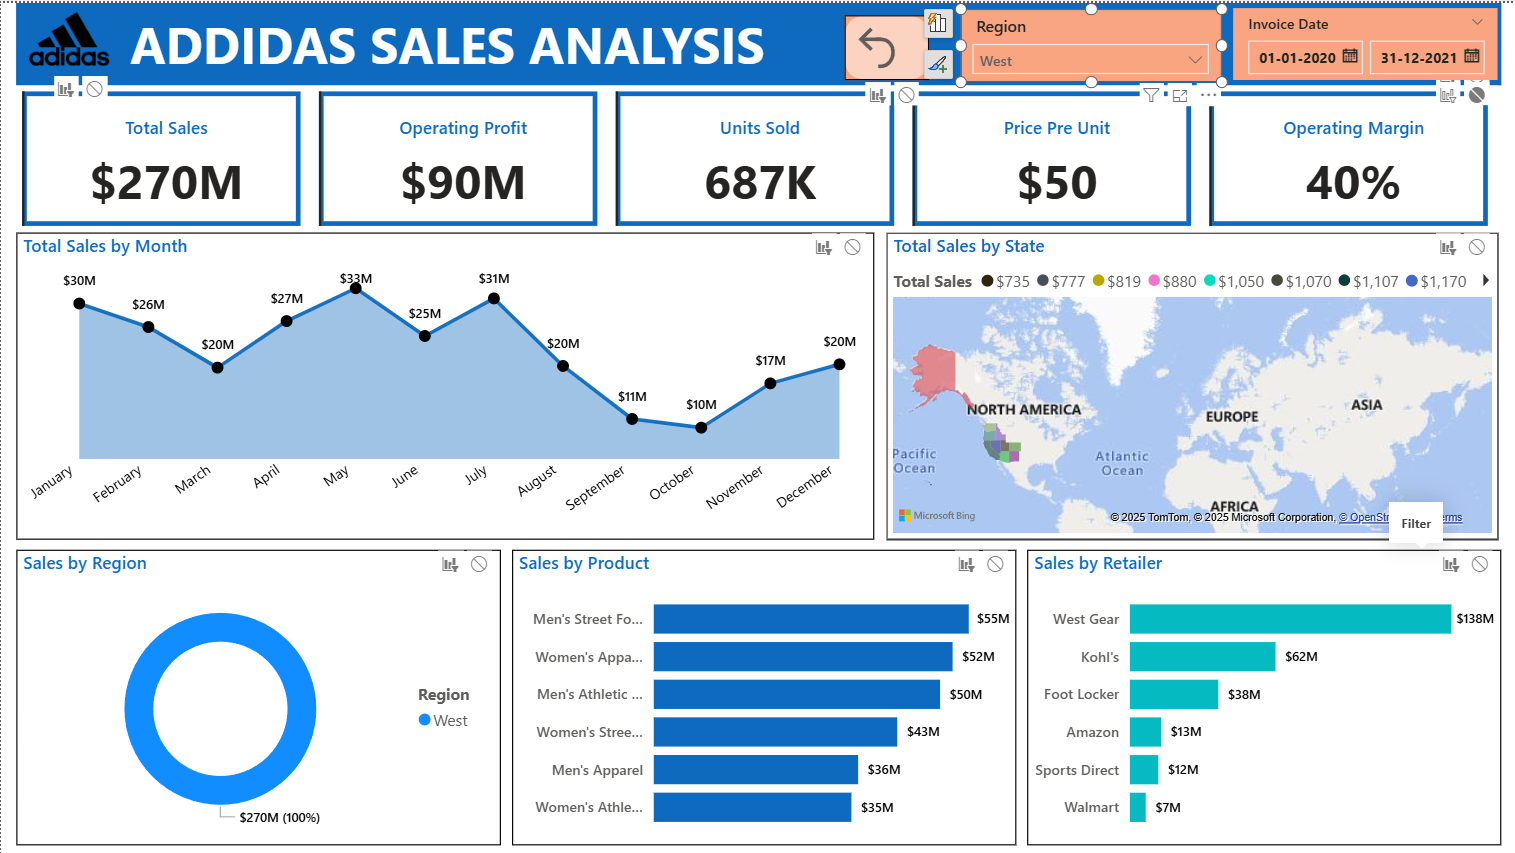

The page's visual inventory and layout, read from the dashboard file:
{"tool":"powerbi","page":{"name":"Page 1","canvas":[1280,720],"ordinal":0},"visuals":[{"type":"shape","box":[13,0,1255.6,69.5],"z":0},{"type":"textbox","box":[104.6,0.9,628.4,68.8],"z":1000},{"type":"cardVisual","fields":{"Data":["Sum(Data Sales Adidas.Total Sales)","Sum(Data Sales Adidas.Operating Profit)","Sum(Data Sales Adidas.Units Sold)","Avg(Data Sales Adidas.Price per Unit)","Avg(Data Sales Adidas.Operating Margin)"]},"box":[13,69.5,1253.4,124.9],"z":2000},{"type":"areaChart","title":"Total Sales by Month","fields":{"Category":["Data Sales Adidas.Invoice Date.Variation.Date Hierarchy.Month"],"Y":["Sum(Data Sales Adidas.Total Sales)"]},"box":[13,194.4,725.5,259.6],"z":3000},{"type":"filledMap","title":"Total Sales by State","fields":{"Category":["Data Sales Adidas.State"],"Series":["Data Sales Adidas.Total Sales"]},"box":[748.3,194.4,518.1,259.6],"z":4000},{"type":"donutChart","title":"Sales by Region","fields":{"Category":["Data Sales Adidas.Region"],"Y":["Sum(Data Sales Adidas.Total Sales)"]},"box":[13,462.7,409.5,249.8],"z":5000},{"type":"barChart","title":"Sales by Product","fields":{"Category":["Data Sales Adidas.Product"],"Y":["Sum(Data Sales Adidas.Total Sales)"]},"box":[432.3,462.7,426.8,249.8],"z":6000},{"type":"barChart","title":"Sales by Retailer","fields":{"Y":["Sum(Data Sales Adidas.Total Sales)"],"Category":["Data Sales Adidas.Retailer"]},"box":[867.8,462.7,400.8,249.8],"z":7000},{"type":"slicer","fields":{"Values":["Data Sales Adidas.Region"]},"box":[811.9,5.5,220.2,60.5],"z":8000},{"type":"slicer","fields":{"Values":["Data Sales Adidas.Invoice Date"]},"box":[1042.2,4.6,223.8,60.5],"z":8001},{"type":"image","box":[19.3,0,78,60.5],"z":8002},{"type":"actionButton","box":[712.8,10.1,71.6,55],"z":8003}]}

Visuals, with their boxes on the page's 1280x720 design canvas (x1, y1, x2, y2). These are canvas units, not pixel positions in the 1515x853 screenshot, which may show the page scaled, cropped or inside an application window:
shape: [left=13, top=0, right=1269, bottom=70]
textbox: [left=105, top=1, right=733, bottom=70]
cardVisual - Sum(Data Sales Adidas.Total Sales) x Sum(Data Sales Adidas.Operating Profit): [left=13, top=70, right=1266, bottom=194]
"Total Sales by Month" areaChart: [left=13, top=194, right=738, bottom=454]
"Total Sales by State" filledMap: [left=748, top=194, right=1266, bottom=454]
"Sales by Region" donutChart: [left=13, top=463, right=422, bottom=712]
"Sales by Product" barChart: [left=432, top=463, right=859, bottom=712]
"Sales by Retailer" barChart: [left=868, top=463, right=1269, bottom=712]
slicer - Data Sales Adidas.Region: [left=812, top=6, right=1032, bottom=66]
slicer - Data Sales Adidas.Invoice Date: [left=1042, top=5, right=1266, bottom=65]
image: [left=19, top=0, right=97, bottom=60]
actionButton: [left=713, top=10, right=784, bottom=65]
